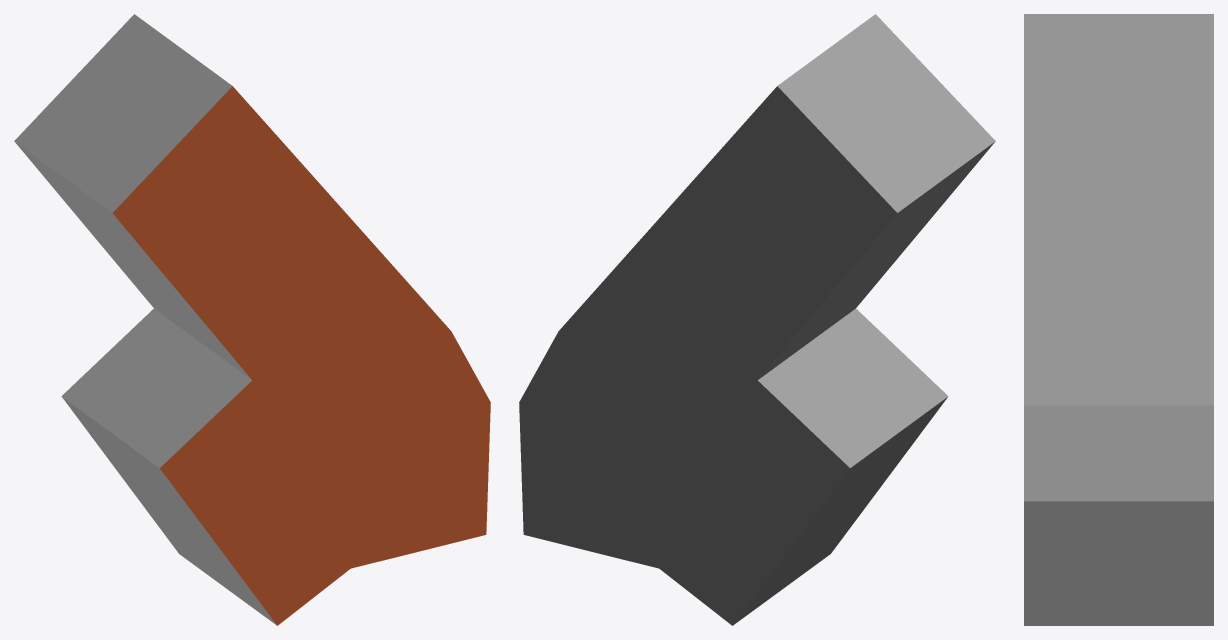
Rendered from construction_1399_assumed_A_Casa_h6m.obj.
3 views of the same model, side by side, from view 1: azimuth 30°, elevation 25°; view 2: azimuth 150°, elevation 25°; view 3: azimuth 270°, elevation 25° (orthographic). The views are drawn at different scales.
Visible parts, largest first — view 1: construction_1399_assumed_A_Casa; view 2: construction_1399_assumed_A_Casa; view 3: construction_1399_assumed_A_Casa.
Part boxes in pixels (x1,y1,x2,y2): construction_1399_assumed_A_Casa: (14,14,490,625); construction_1399_assumed_A_Casa: (519,14,995,625); construction_1399_assumed_A_Casa: (1024,14,1213,625).
Bounding box in the file's own units: 13.32 × 18.54 × 6.
